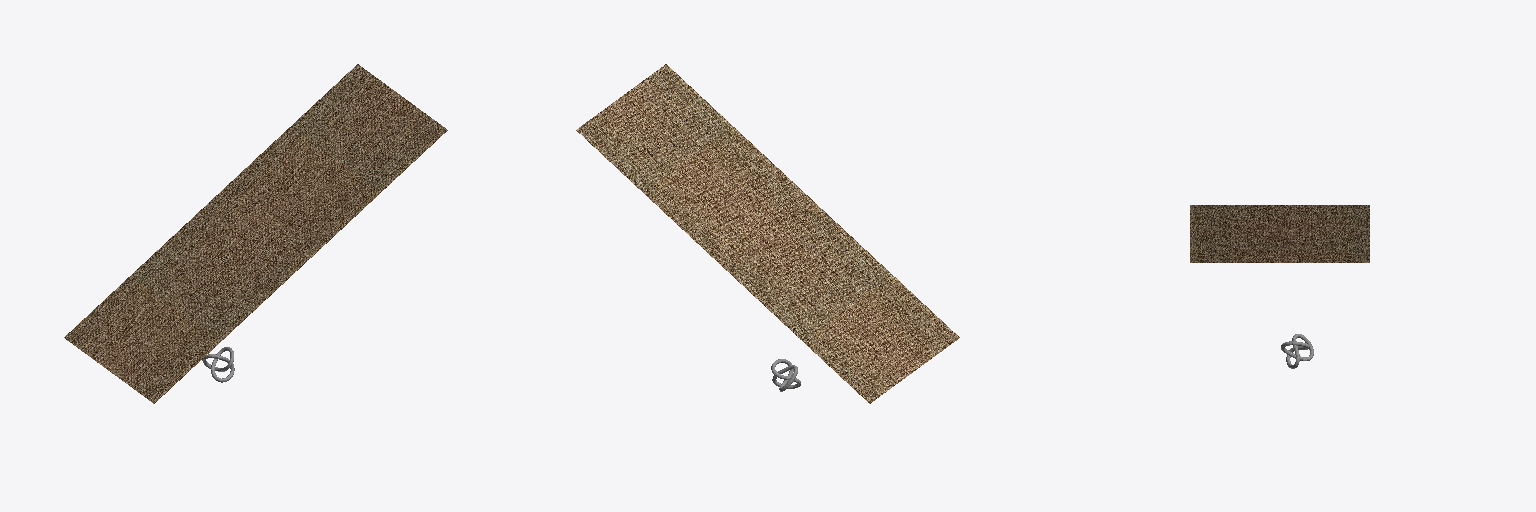
The picture shows the model from 3 angles: view 1: azimuth 30°, elevation 25°; view 2: azimuth 150°, elevation 25°; view 3: azimuth 270°, elevation 25°; orthographic projection.
Parts seen in each view (by area): view 1: Plane001, Torus_Knot001; view 2: Plane001, Torus_Knot001; view 3: Plane001, Torus_Knot001.
Boxes of the visible parts, x1=… form: Plane001: x1=64, y1=64, x2=447, y2=403; Torus_Knot001: x1=202, y1=347, x2=234, y2=382; Plane001: x1=576, y1=64, x2=959, y2=403; Torus_Knot001: x1=771, y1=359, x2=800, y2=391; Plane001: x1=1190, y1=205, x2=1369, y2=262; Torus_Knot001: x1=1281, y1=334, x2=1313, y2=368.
Size of the model in its own units: 139 by 111 by 74.15.
2 materials, 1 textured.